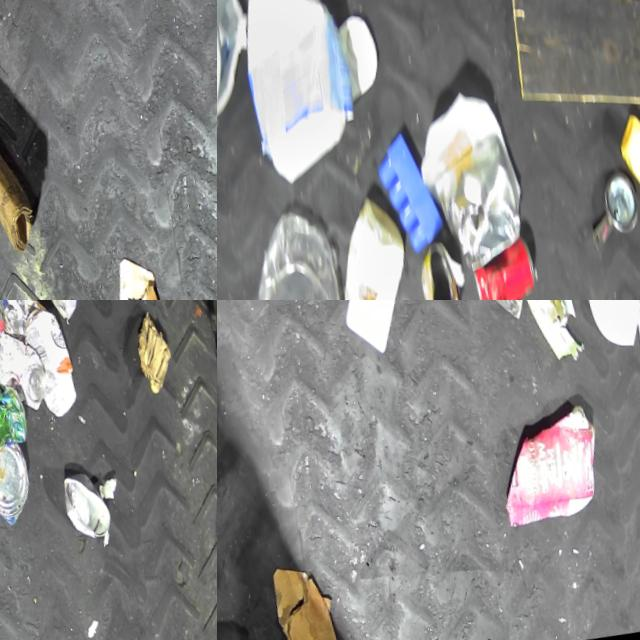can: (470, 225, 549, 300), (0, 317, 56, 411), (60, 460, 123, 541), (0, 432, 45, 524), (415, 232, 475, 300), (599, 159, 640, 231), (0, 374, 34, 447)
milk_jug: (217, 0, 374, 192), (322, 300, 436, 356)
